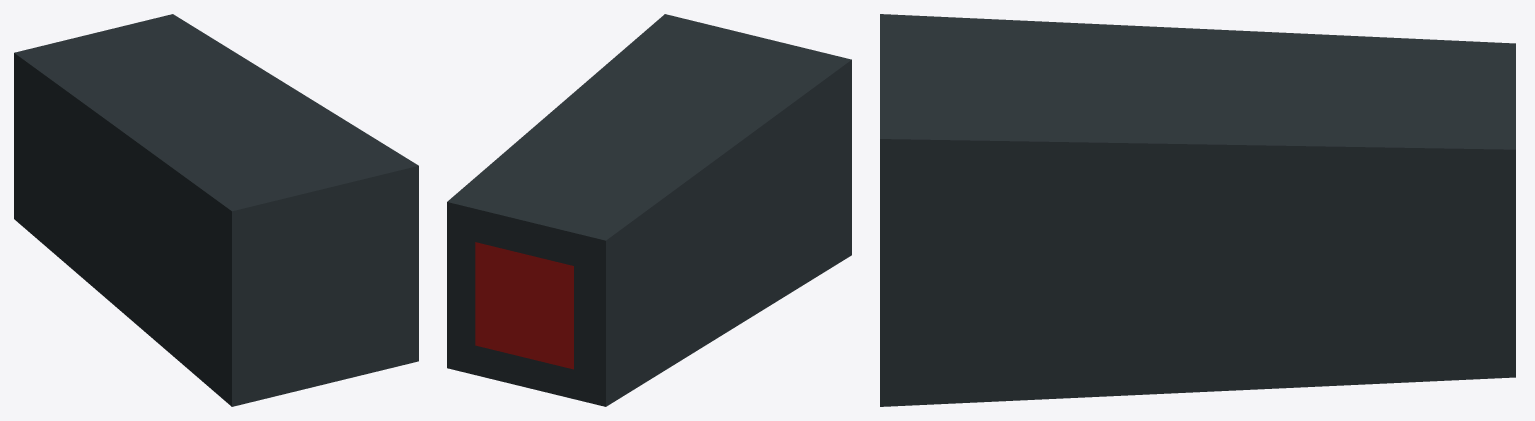
3 renders of one model, left to right at view 1: azimuth 30°, elevation 25°; view 2: azimuth 150°, elevation 25°; view 3: azimuth 270°, elevation 25°, orthographic. The views are drawn at different scales.
Parts seen in each view (by area): view 1: mount; view 2: mount; view 3: mount.
Part boxes in pixels (<box>): mount: <box>14,14,418,406</box>; mount: <box>447,14,851,406</box>; mount: <box>880,14,1515,406</box>.
Size of the model in its own units: 1.77 by 1.77 by 3.83.
